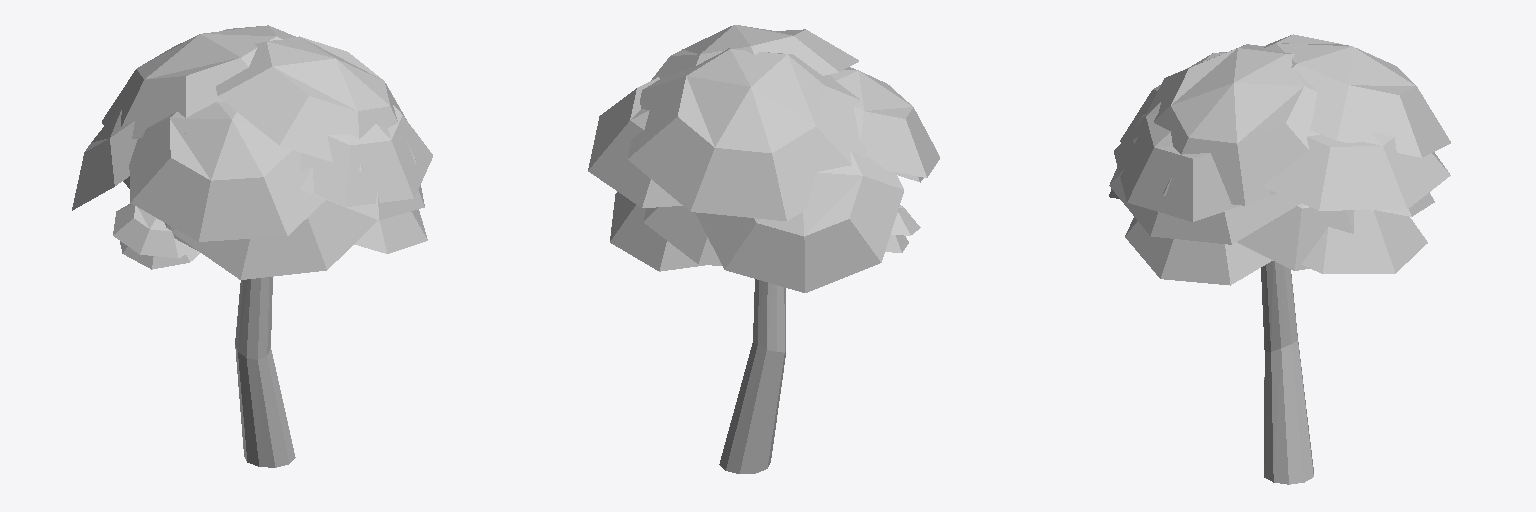
The model's file is tree.obj.
The picture shows the model from 3 angles: view 1: azimuth 30°, elevation 25°; view 2: azimuth 150°, elevation 25°; view 3: azimuth 270°, elevation 25°; orthographic projection.
Parts seen in each view (by area): view 1: Tree_1_Cylinder.037; view 2: Tree_1_Cylinder.037; view 3: Tree_1_Cylinder.037.
Boxes of the visible parts, <box> form: Tree_1_Cylinder.037: <box>72,25,432,467</box>; Tree_1_Cylinder.037: <box>588,25,939,473</box>; Tree_1_Cylinder.037: <box>1109,34,1450,484</box>.
Bounding box in the file's own units: 4.14 × 5.54 × 4.13.